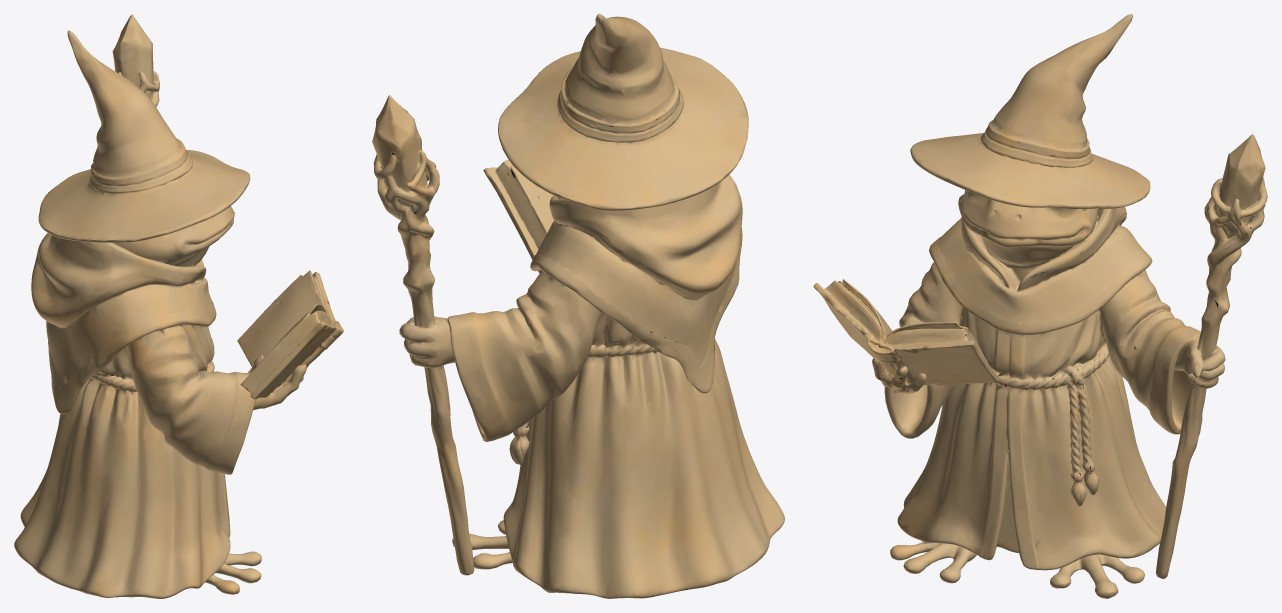
The model's file is frog-web.glb.
The picture shows the model from 3 angles, left to right: view 1: azimuth 30°, elevation 25°; view 2: azimuth 150°, elevation 25°; view 3: azimuth 270°, elevation 25°; orthographic projection. The views are drawn at different scales.
Parts seen in each view (by area): view 1: tripo_node_c75c81d6; view 2: tripo_node_c75c81d6; view 3: tripo_node_c75c81d6.
Part boxes in pixels (x1,y1,x2,y2): tripo_node_c75c81d6: (14,14,343,598); tripo_node_c75c81d6: (372,14,784,598); tripo_node_c75c81d6: (813,14,1267,598).
Size of the model in its own units: 0.5353 by 0.9812 by 0.7784.
Materials: 1 (1 with a texture image).
